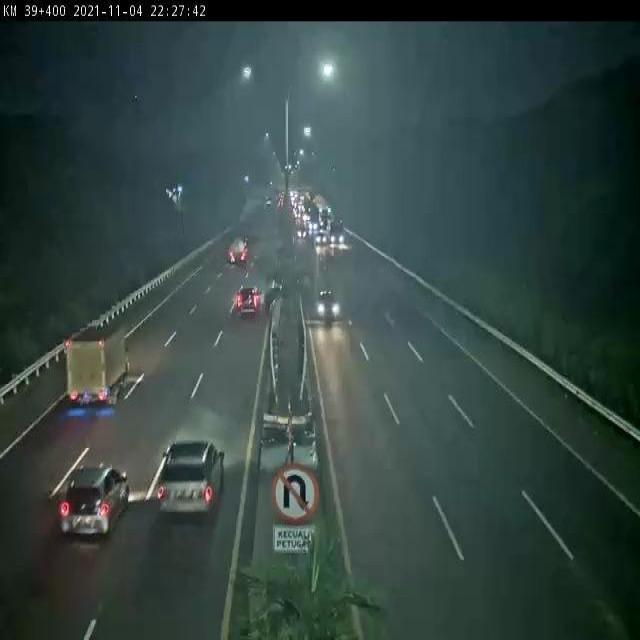car: (156, 436, 226, 517), (60, 464, 131, 537), (315, 286, 341, 322), (236, 282, 262, 314)
truck-l-: (228, 232, 250, 265)
truck-m-: (64, 328, 130, 409)
